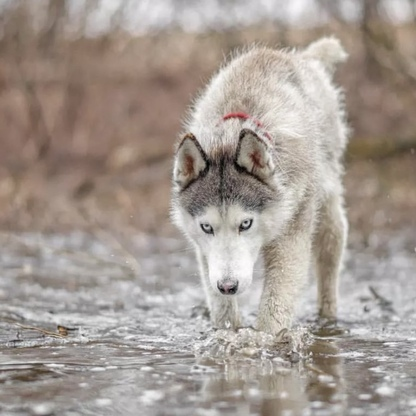husky: (166, 31, 362, 346)
